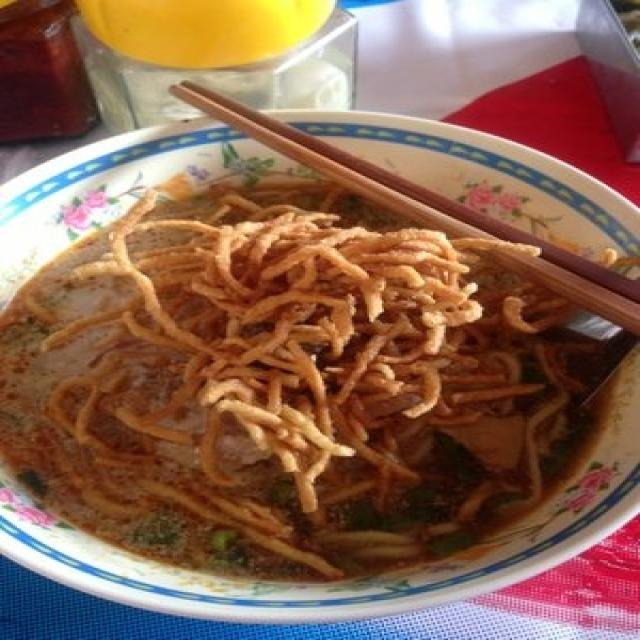面条主食: (19, 105, 617, 580)
